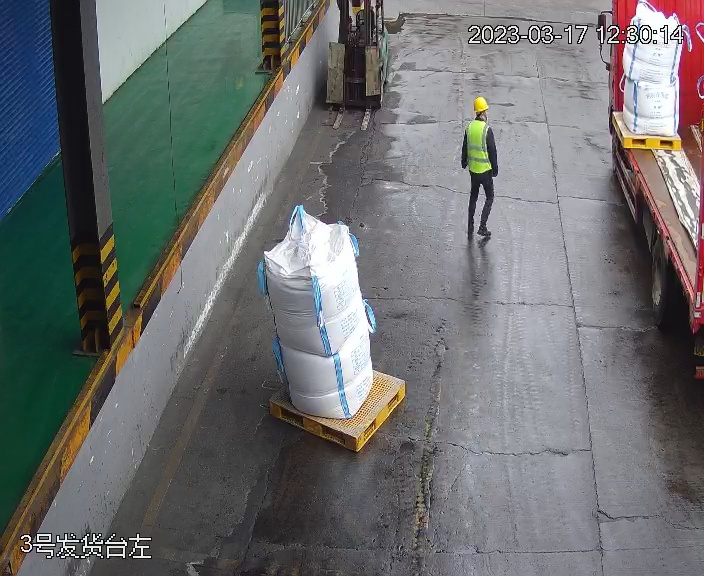head: (462, 95, 494, 140)
helmet: (473, 95, 489, 112)
people: (459, 95, 502, 243)
truck: (598, 5, 703, 381)
